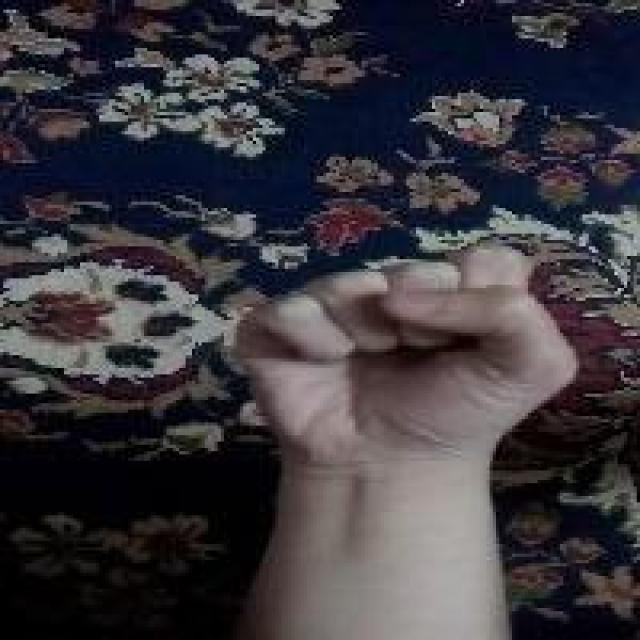S: (226, 238, 584, 476)
